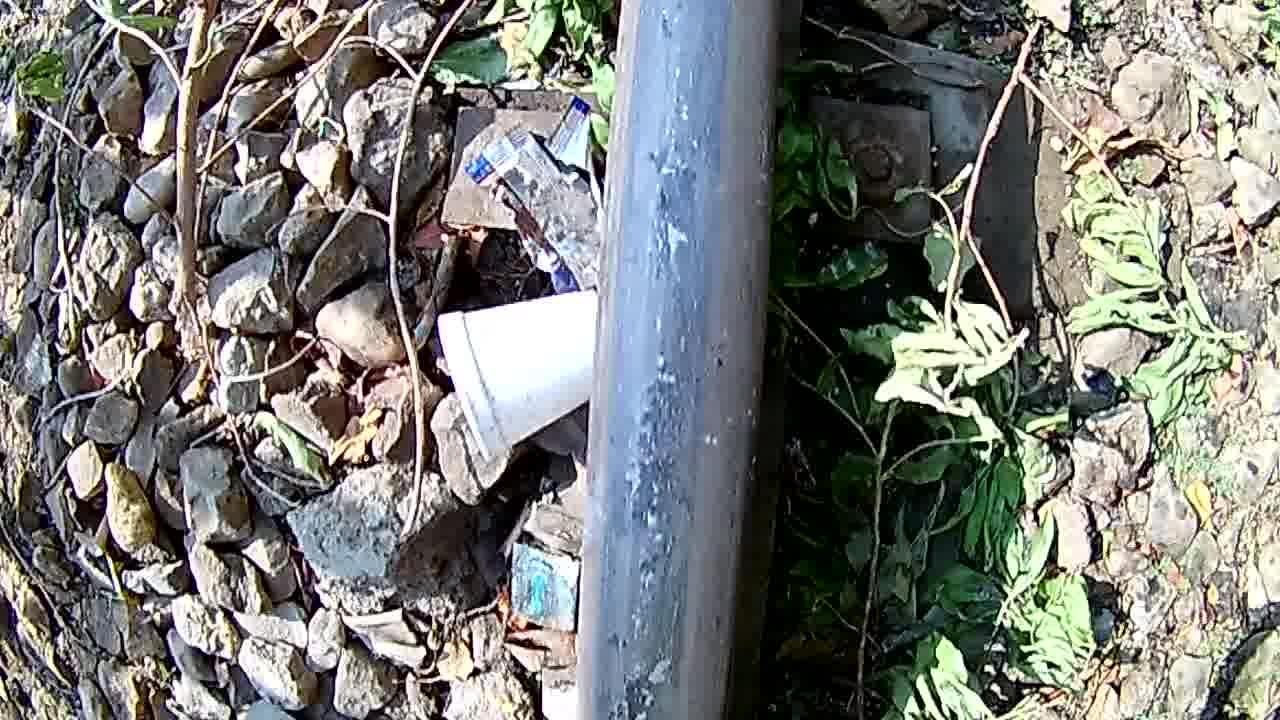crack: (574, 3, 759, 720)
